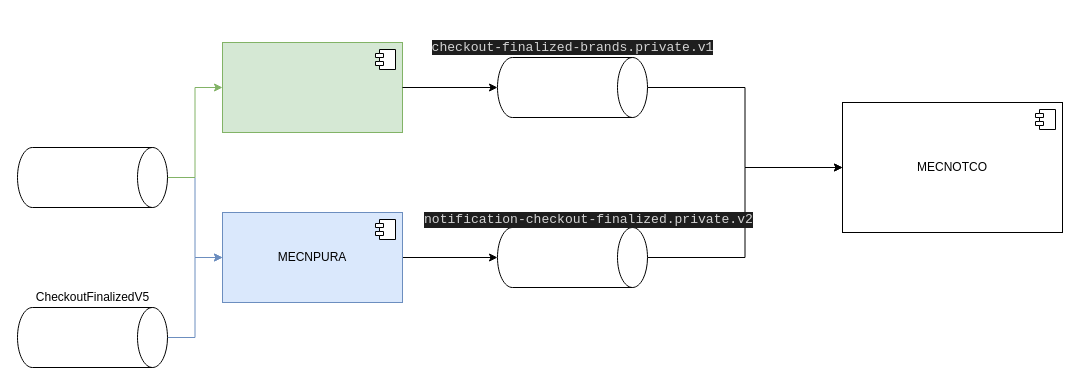
The diagram is 1080 pixels wide and 385 high, and some of its shapes have lost their labels. The centre of each missing label's shape, as x and y in pixels:
"CheckoutFinalizedV4" goes at [92,177].
"MECNPURACD" goes at [312,87].
